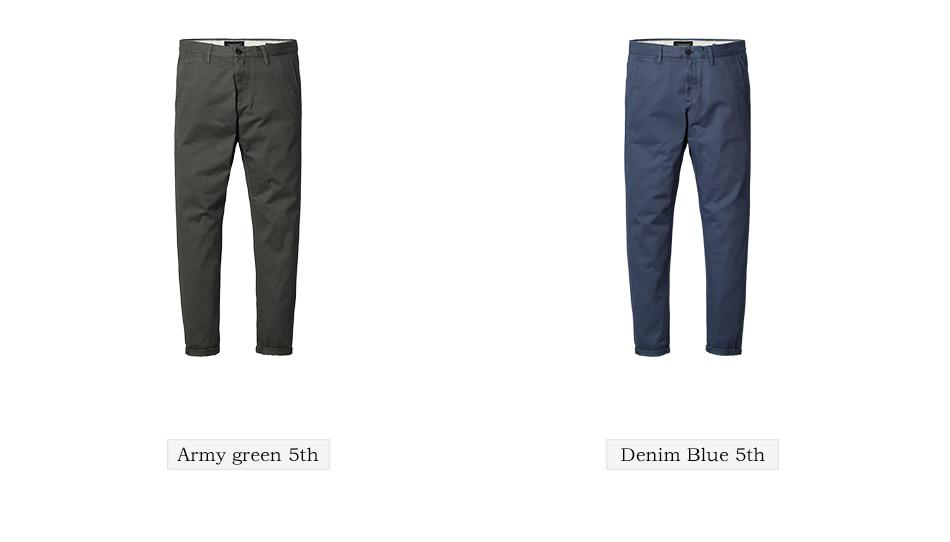pants: (171, 38, 299, 358), (626, 38, 751, 351)
